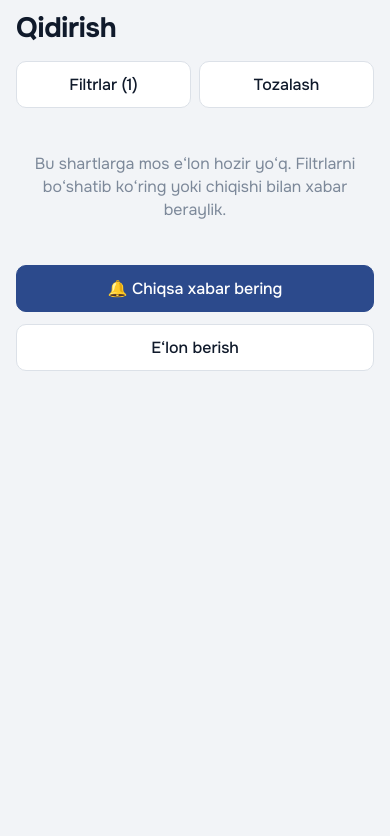
Scenario: SearchPage › filtrlar paneli ochiladi va faol filtr soni ko‘rinadi
Click the button "Filtrlar (1)": (104, 84) [16, 61, 191, 108]
(page scrolled)
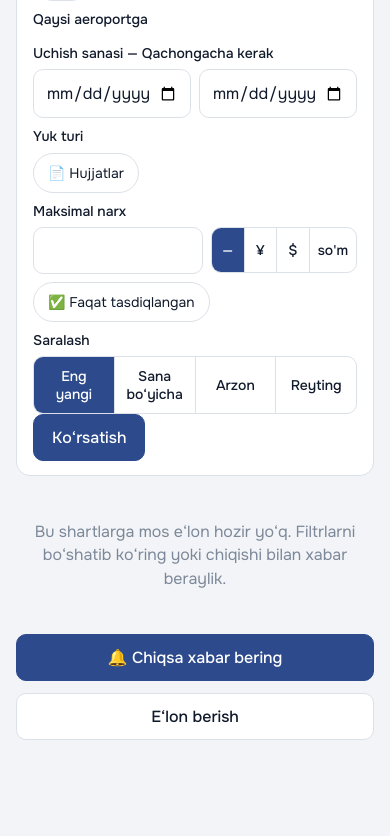
Now the button "Ko‘rsatish" is shown, box [33, 414, 146, 461]
